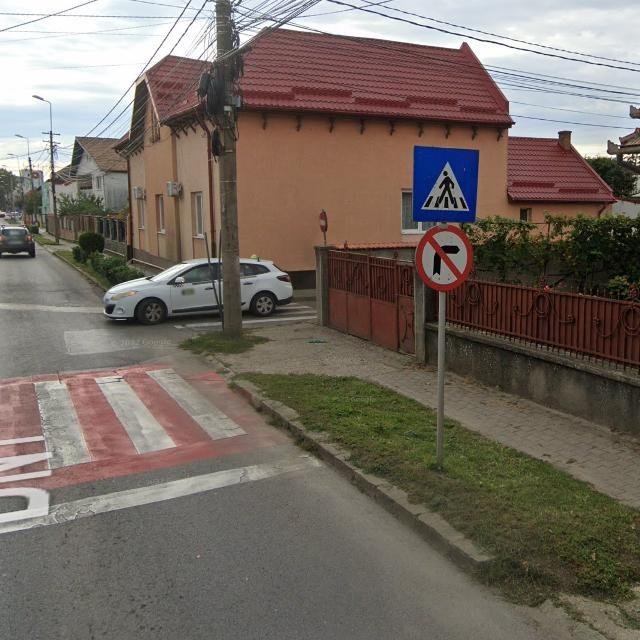info_crosswalk: (413, 147, 478, 222)
